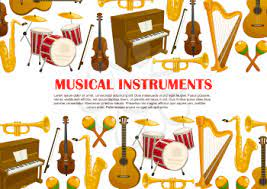Piano: (104, 10, 178, 80), (1, 136, 43, 189)
Saxophone: (219, 110, 262, 178), (70, 133, 121, 189), (1, 6, 27, 75)
Violin: (34, 108, 84, 182), (167, 1, 212, 64), (76, 8, 114, 80)
